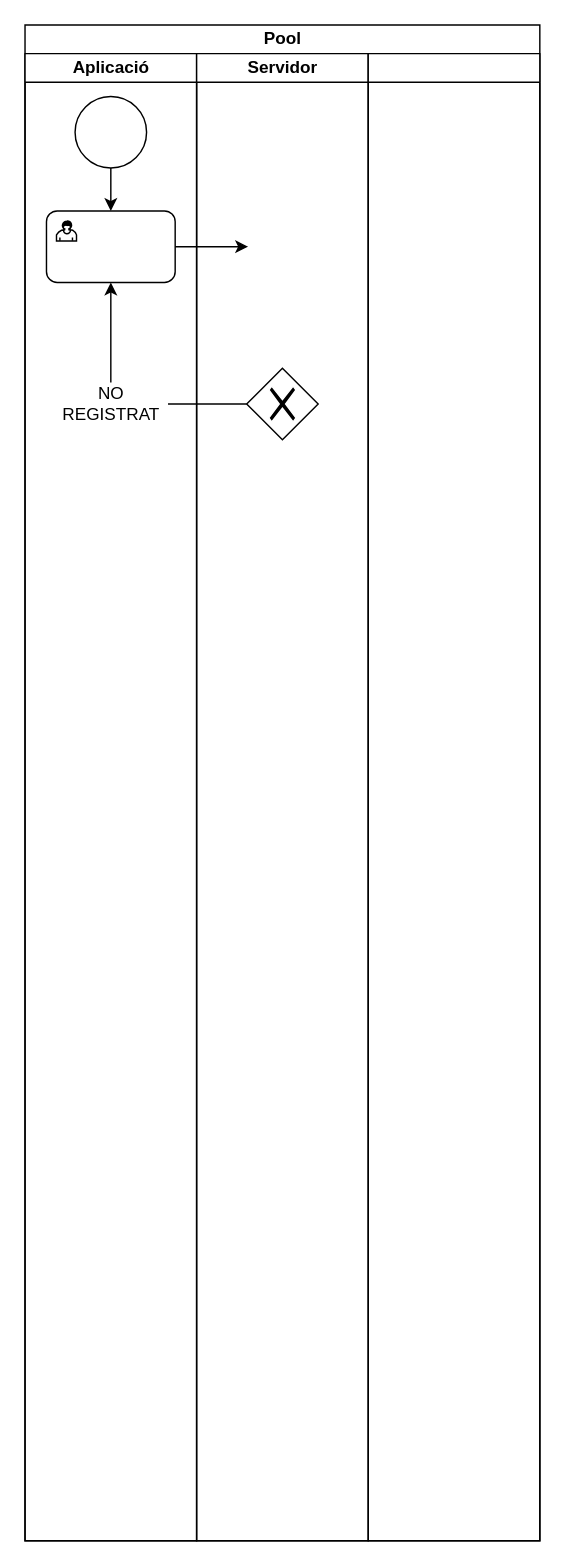
The diagram is 565 pixels wide and 1566 high, and some of its shapes have lost their labels. The centre of each missing label's shape, as x and y in pixels:
"IRIS" belongs at point (453, 796).
"L'usuari s'autentifica" belongs at point (110, 245).
